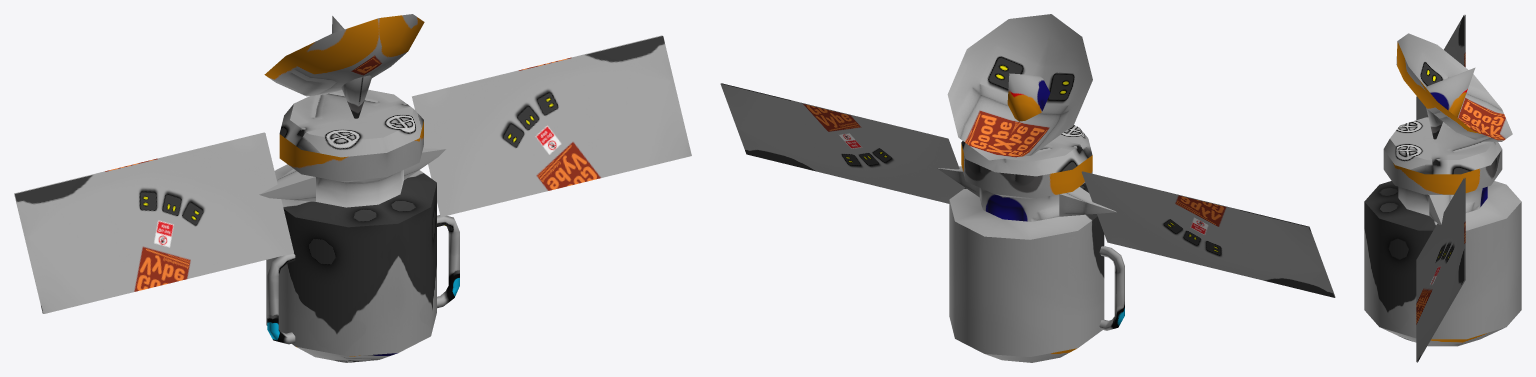
The model's file is saterlitte.fbx.
3 renders of one model, left to right at view 1: azimuth 30°, elevation 25°; view 2: azimuth 150°, elevation 25°; view 3: azimuth 270°, elevation 25°, orthographic. The views are drawn at different scales.
Parts seen in each view (by area): view 1: saterlite; view 2: saterlite; view 3: saterlite.
Boxes of the visible parts, bbox=[...] form: saterlite: bbox=[14, 14, 691, 362]; saterlite: bbox=[720, 14, 1335, 362]; saterlite: bbox=[1364, 15, 1521, 362].
Size of the model in its own units: 3691 by 1858 by 923.
